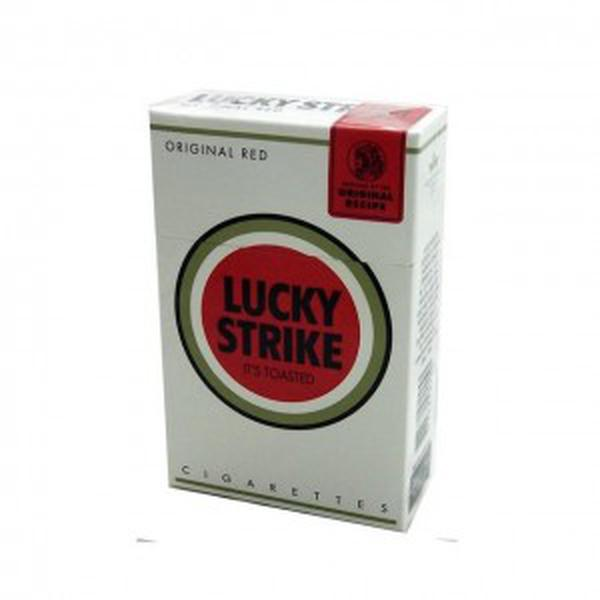lucky_strike_red: (165, 127, 408, 489)
